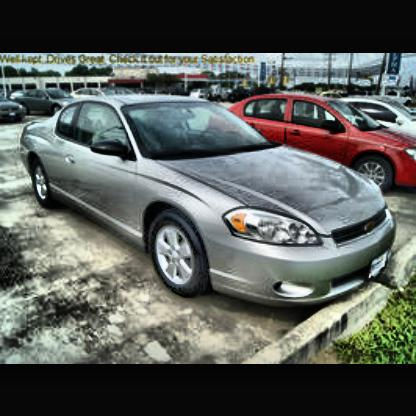Chevrolet Monte Carlo Coupe 2007: (25, 95, 398, 312)
